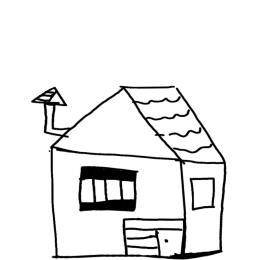bottom_placed_house: (1, 0, 260, 260)
chimney: (26, 82, 79, 141)
closed_window: (74, 162, 141, 215)
door: (116, 213, 190, 259)
open_window: (188, 173, 216, 216)
roof: (29, 82, 234, 166)
wall: (44, 143, 190, 259)
